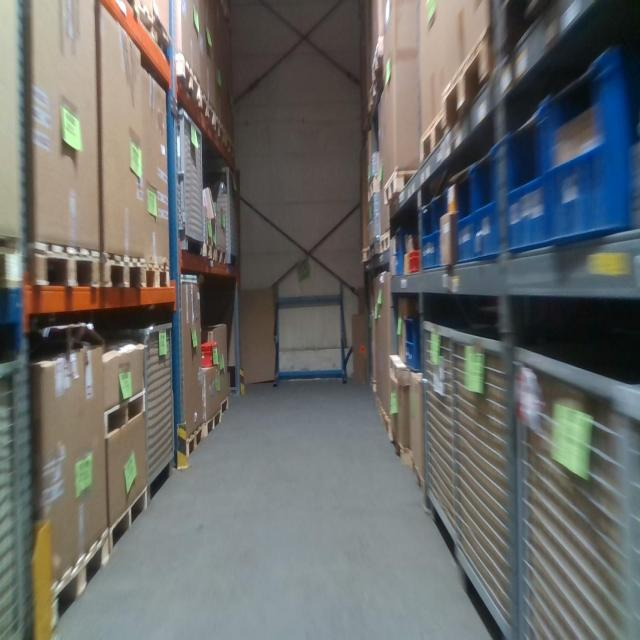pallet: (48, 525, 108, 603), (441, 48, 495, 132), (108, 483, 148, 560), (28, 248, 100, 290), (104, 386, 146, 440), (175, 51, 202, 115), (421, 102, 447, 166), (101, 258, 141, 295), (385, 170, 420, 204), (185, 416, 207, 463), (141, 260, 171, 294), (205, 403, 220, 440), (202, 96, 216, 133), (378, 223, 392, 256), (373, 48, 386, 79), (215, 115, 227, 147), (200, 244, 216, 264), (221, 394, 230, 418)
small_load_carrier: (542, 40, 636, 255), (506, 89, 554, 259), (474, 142, 507, 263), (451, 165, 478, 267), (434, 184, 455, 269), (403, 313, 426, 375), (420, 196, 437, 271), (393, 224, 408, 274)
stillage: (513, 332, 639, 640), (447, 328, 525, 638), (104, 311, 180, 507), (422, 312, 461, 560), (0, 353, 29, 638), (174, 105, 208, 261), (203, 154, 241, 265)
